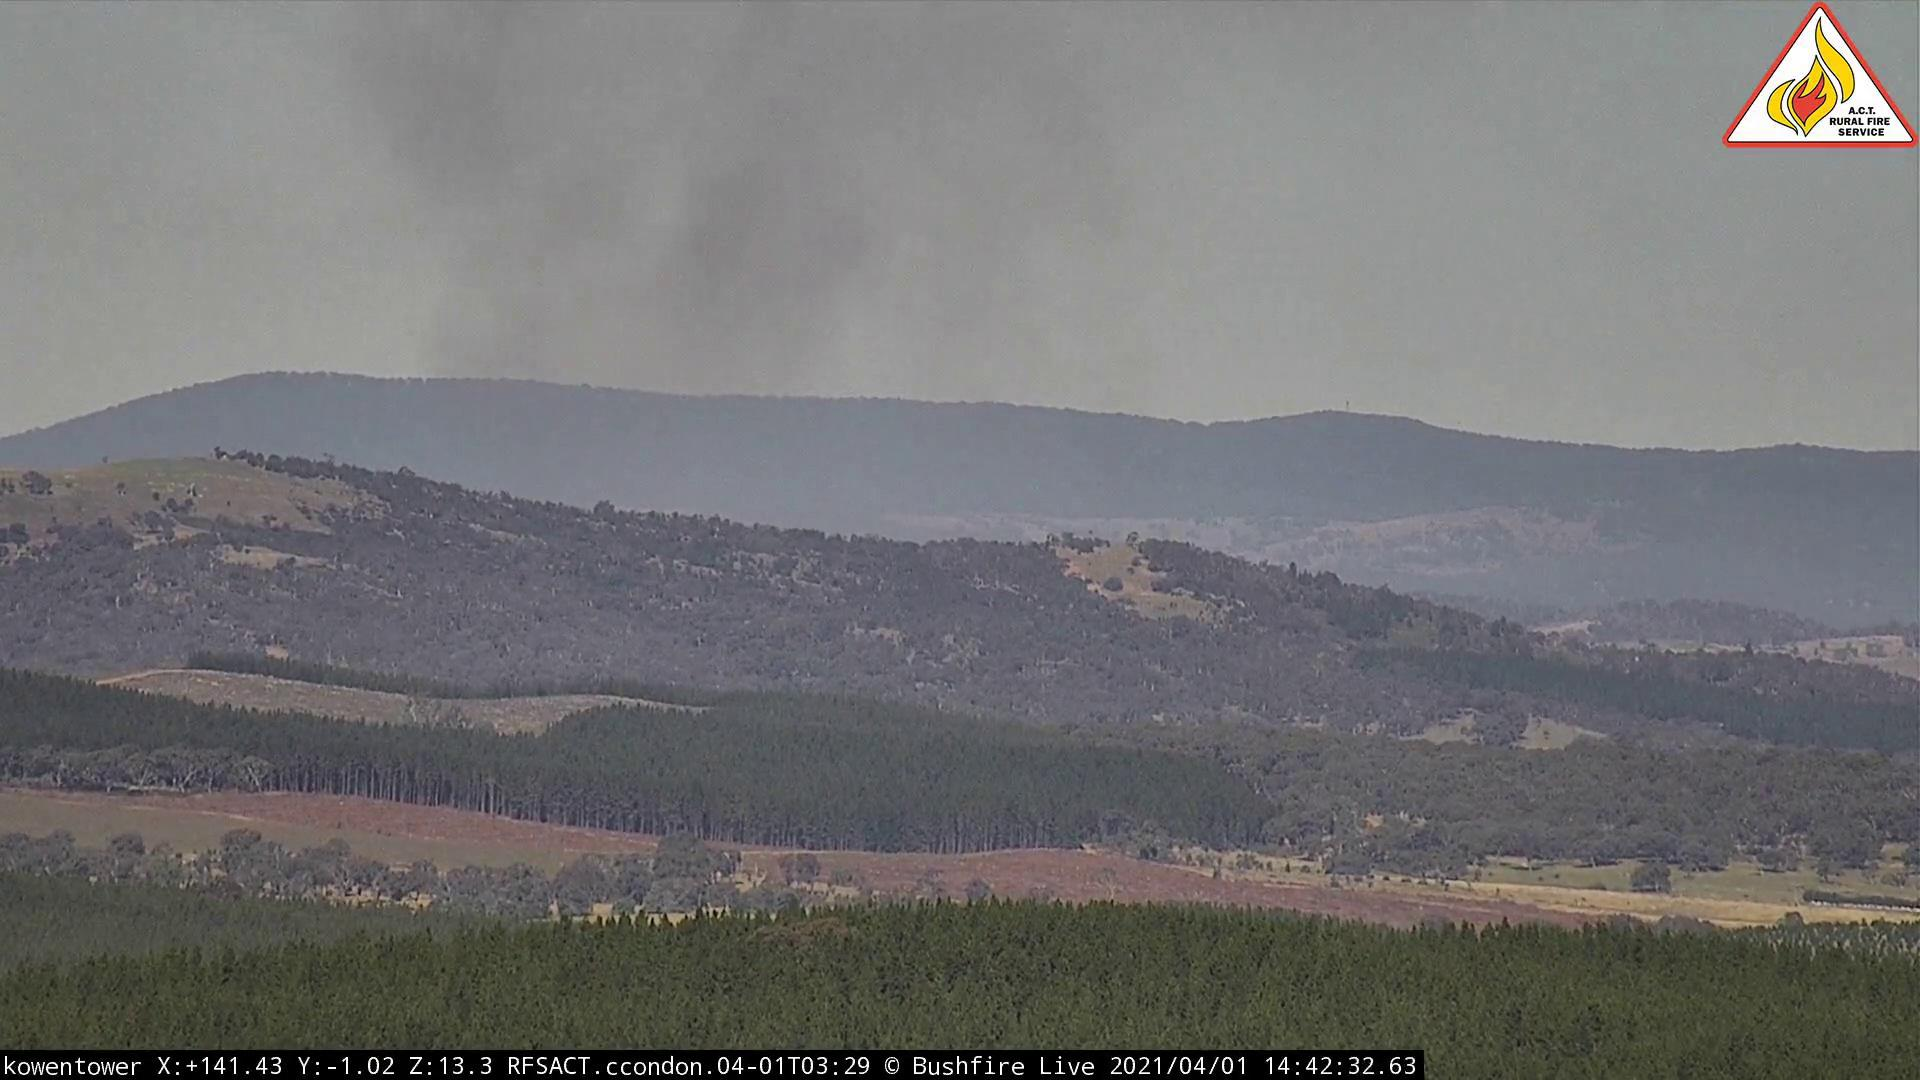Smoke: (303, 3, 1171, 517)
